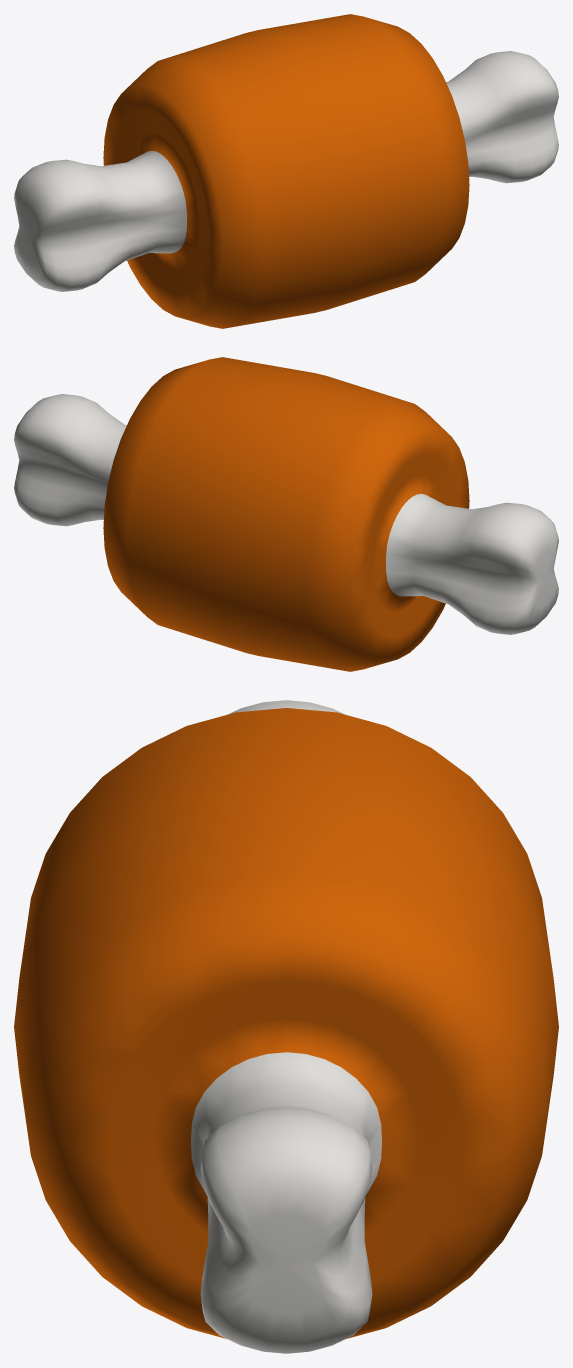
Rendered from meat01.fbx.
The picture shows the model from 3 angles, top to bottom: view 1: azimuth 30°, elevation 25°; view 2: azimuth 150°, elevation 25°; view 3: azimuth 270°, elevation 25°; orthographic projection. The views are drawn at different scales.
Parts seen in each view (by area): view 1: pCylinder1; view 2: pCylinder1; view 3: pCylinder1.
Part boxes in pixels (left/top/right/bottom): pCylinder1: left=14, top=14, right=558, bottom=328; pCylinder1: left=14, top=357, right=558, bottom=671; pCylinder1: left=14, top=700, right=558, bottom=1353.
Size of the model in its own units: 6.21 by 3.01 by 3.01.
